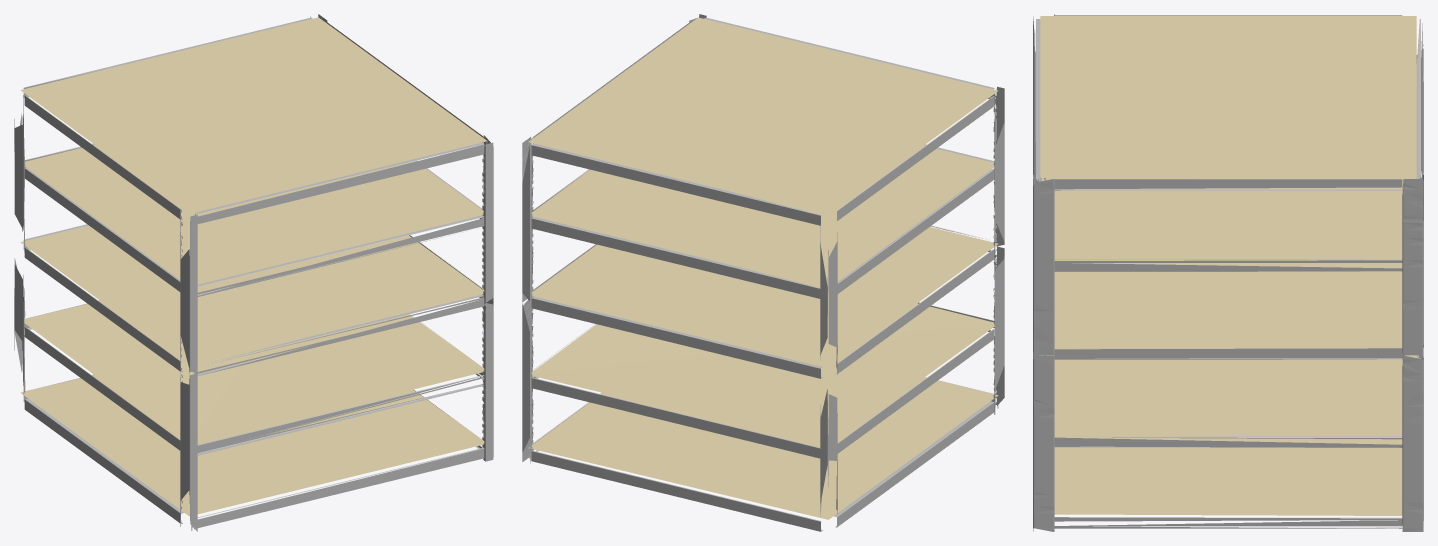
File: sh-kl-utility-shelving.glb
The picture shows the model from 3 angles, left to right: view 1: azimuth 30°, elevation 25°; view 2: azimuth 150°, elevation 25°; view 3: azimuth 270°, elevation 25°; orthographic projection. The views are drawn at different scales.
Parts seen in each view (by area): view 1: metal_shelf_3; view 2: metal_shelf_3; view 3: metal_shelf_3.
Part boxes in pixels (x1,y1,x2,y2): metal_shelf_3: (14, 14, 493, 531); metal_shelf_3: (522, 14, 1004, 531); metal_shelf_3: (1033, 14, 1423, 531).
Bounding box in the file's own units: 1 × 0.9968 × 1.
